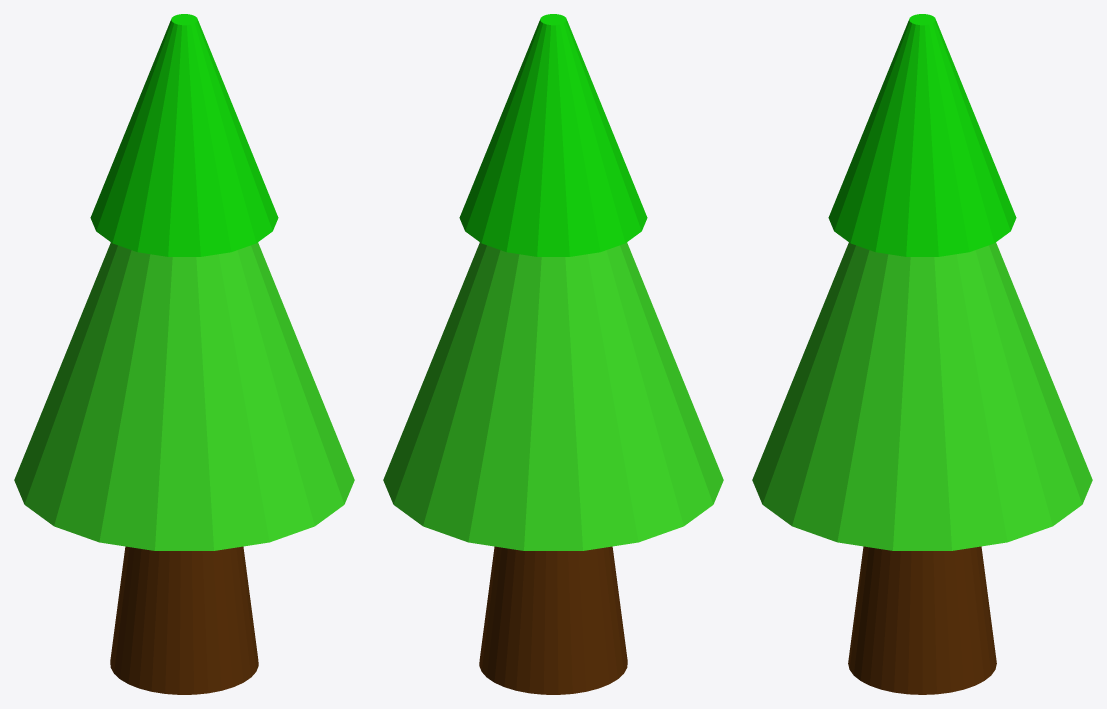
File: Arbre.fbx
3 views of the same model, side by side, from view 1: azimuth 30°, elevation 25°; view 2: azimuth 150°, elevation 25°; view 3: azimuth 270°, elevation 25° (orthographic).
Visible parts, largest first — view 1: Cone.002; view 2: Cone.002; view 3: Cone.002.
Part boxes in pixels (left/top/right/bottom): Cone.002: left=14, top=14, right=354, bottom=694; Cone.002: left=383, top=14, right=723, bottom=694; Cone.002: left=752, top=14, right=1092, bottom=694.
Size of the model in its own units: 167 by 354 by 170.
